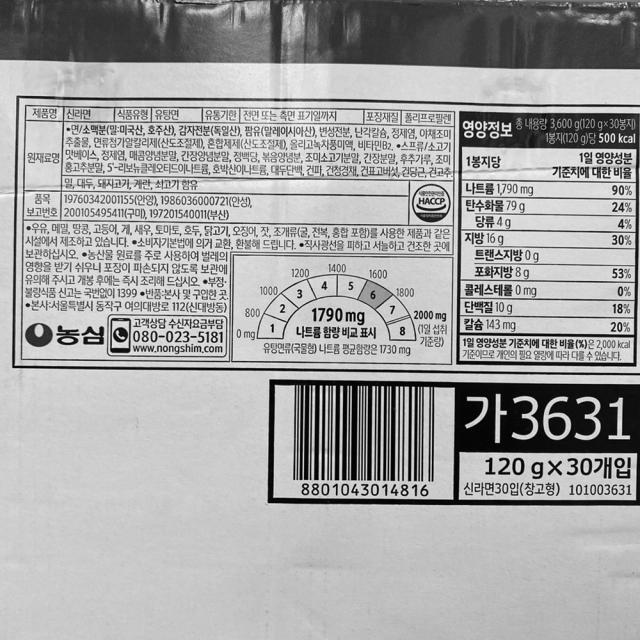Nutrition Label: (450, 98, 640, 378)
